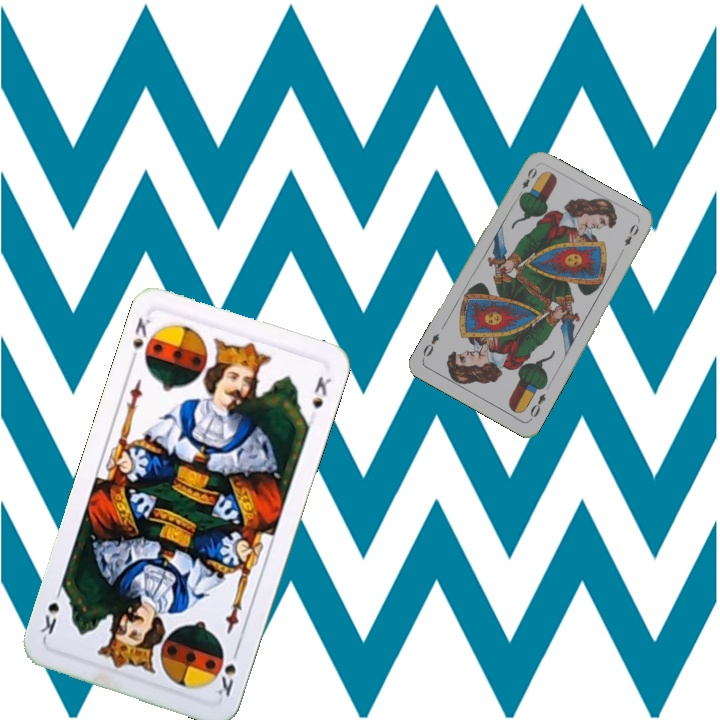EO: (513, 163, 540, 200), (525, 389, 548, 423)
SK: (212, 643, 242, 699), (126, 313, 153, 367)
